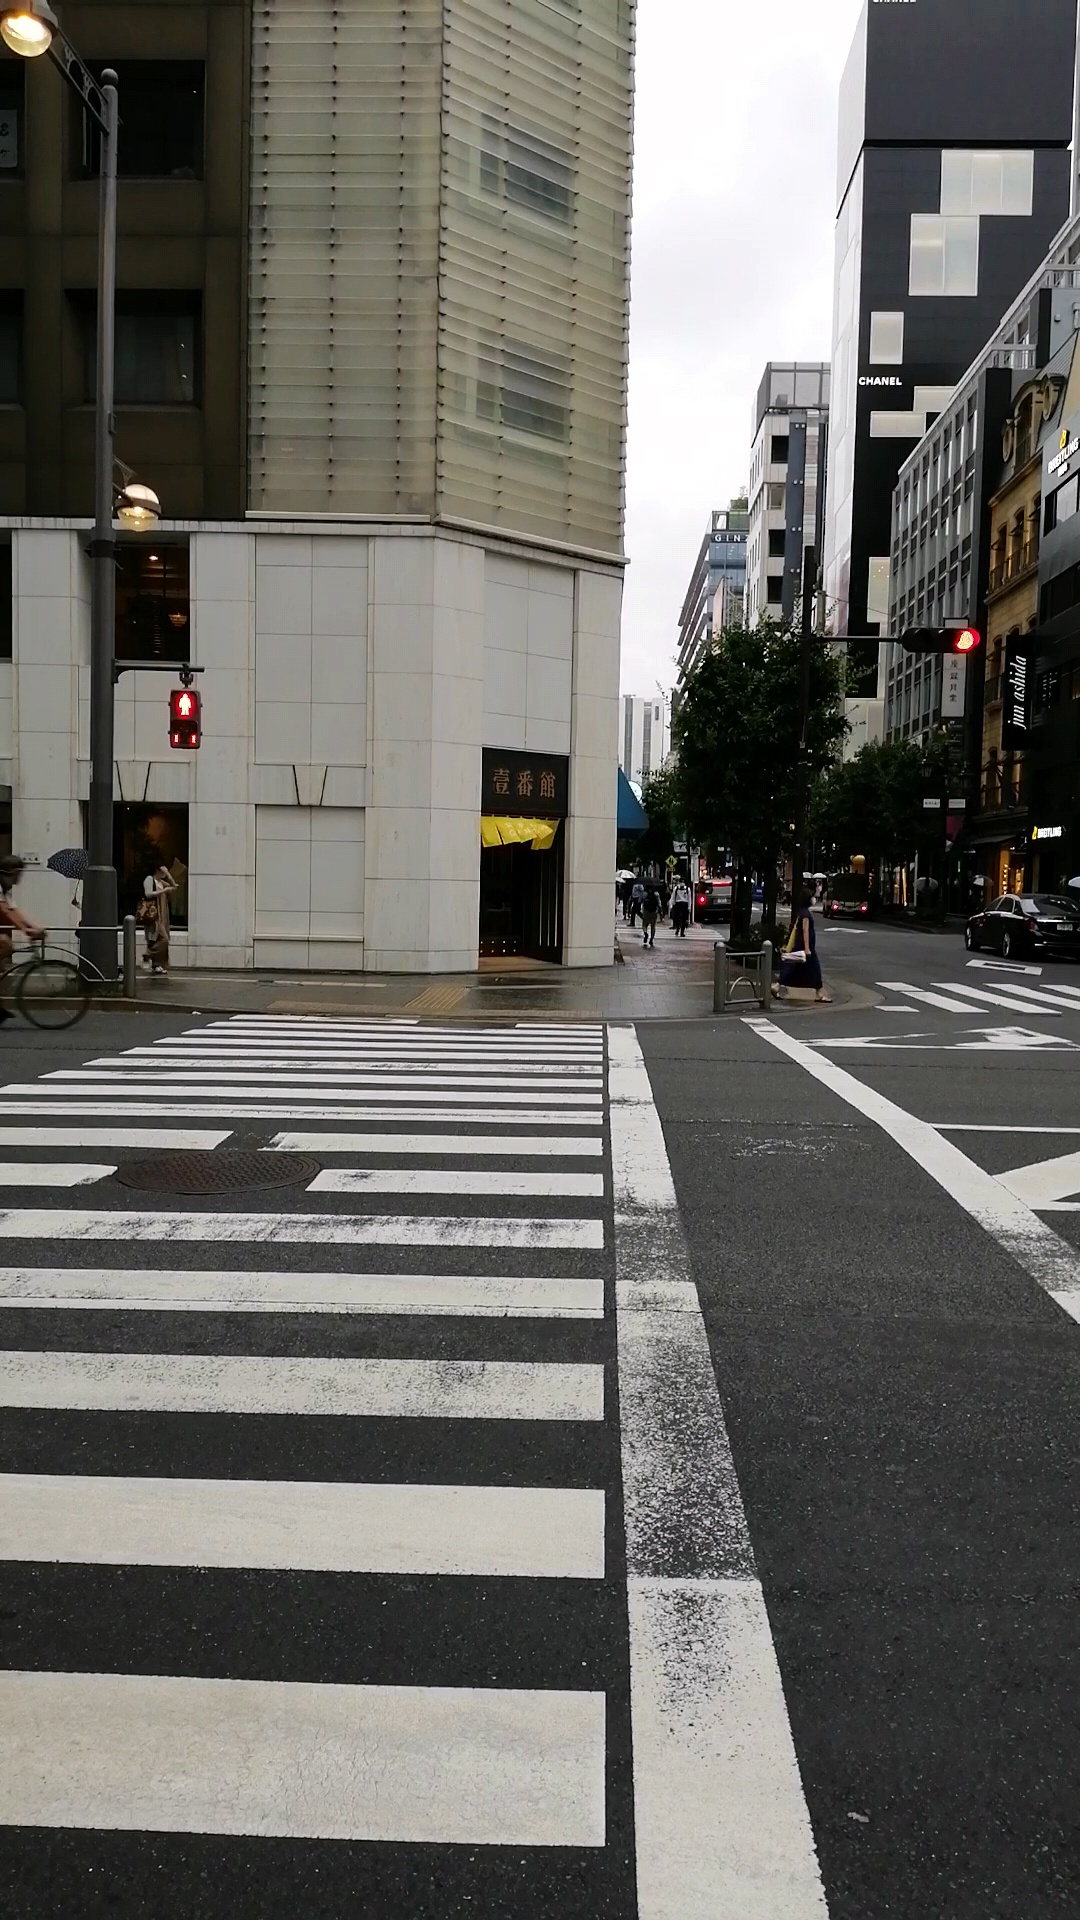red: (165, 688, 200, 752)
